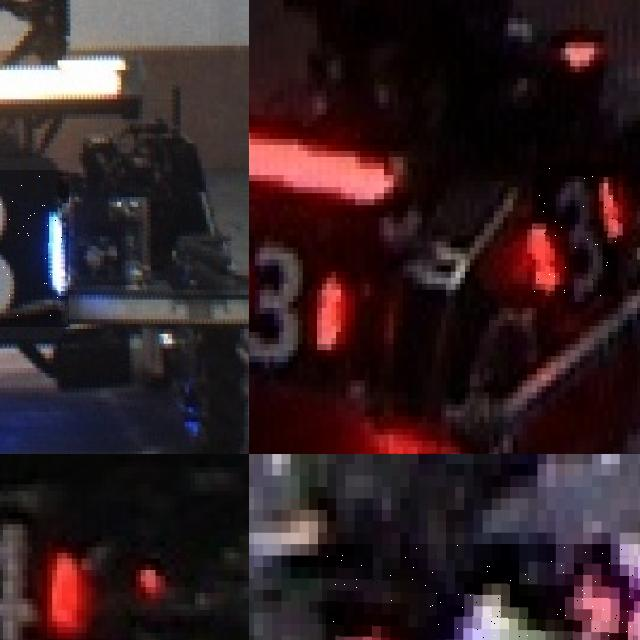B3: (0, 170, 68, 326)
R3: (249, 229, 345, 362), (532, 163, 618, 296)
R4: (322, 544, 633, 640), (0, 513, 81, 640)
